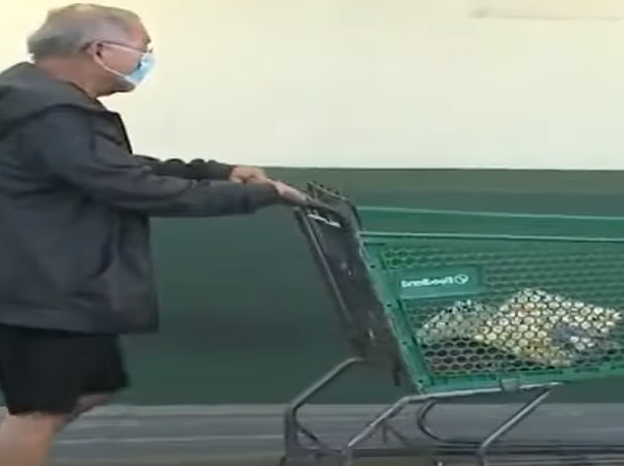mask_weared_incorrect: (75, 3, 162, 95)
